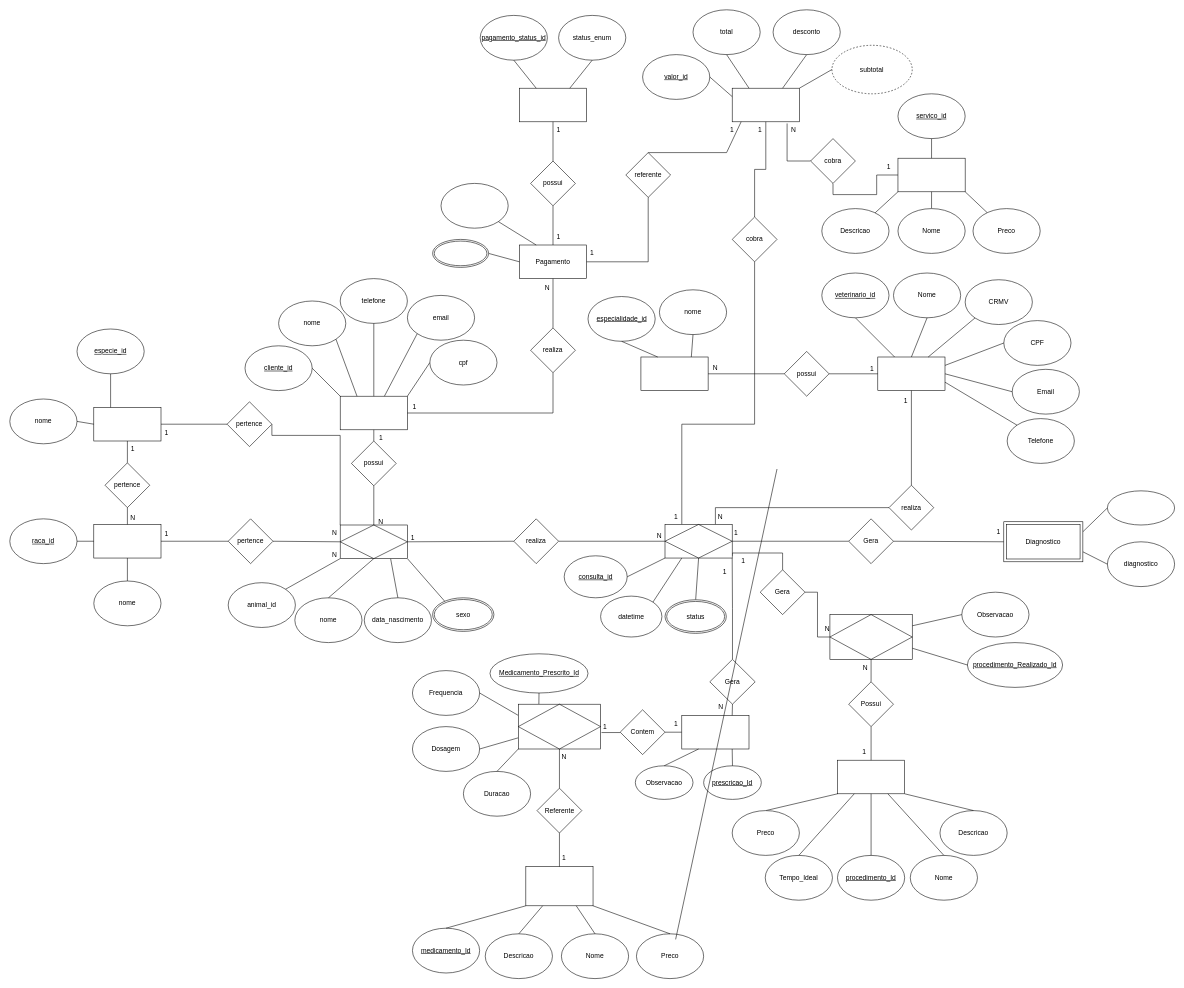
Some shapes in this 1184 by 988 pixel diagram are drawn without their labels. The shapes that lost their labels are listed below. From the top down, each one's centre as x and y in pixels, then its label:
[553,105]: Pagamento_Status
[765,105]: Valor
[931,175]: Servico
[474,205]: pagamento_id
[460,253]: modo
[674,373]: Especialidade
[911,373]: Veterinario
[127,424]: Especie
[373,413]: Cliente
[1141,507]: DIagnostico_Id
[127,541]: Raça
[373,541]: Animal
[698,541]: Consulta
[870,636]: Procedimento_realizado
[559,726]: Medicamento_prescrito
[715,732]: Prescricao
[871,777]: Procedimento
[559,886]: Medicamento
